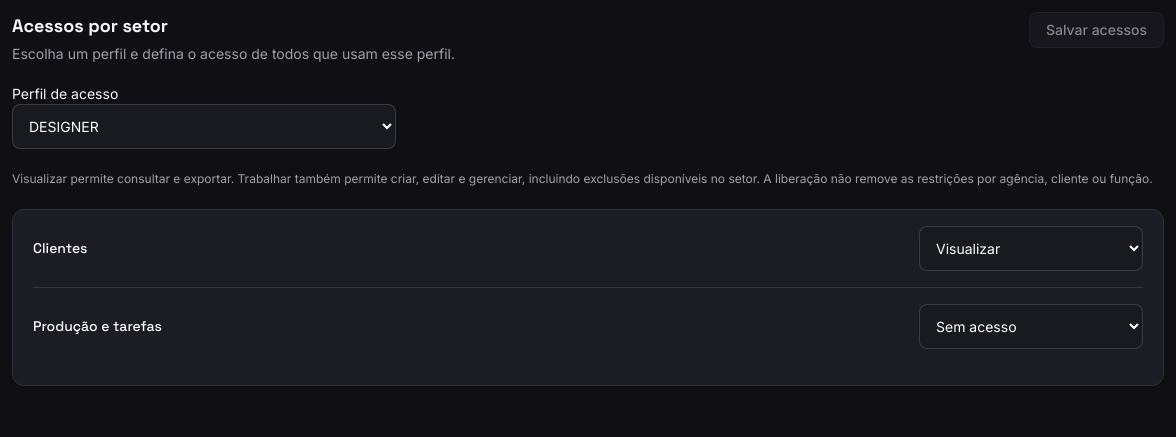
Test case: Acessos por setor › protects the owner profile
Select "Proprietário" in the dropdown labelled "Perfil de acesso" at [204, 126], box [12,104,396,149]
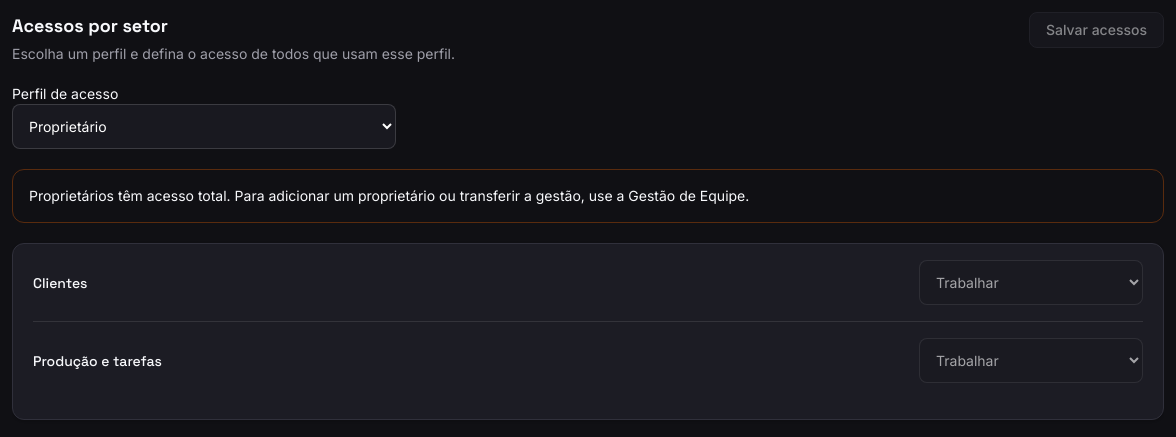
expect the button "Salvar acessos" is disabled: met, box [1029,12,1164,48]
expect the dropdown named "Acesso a Produção e tarefas" is disabled: met, box [919,338,1143,383]
